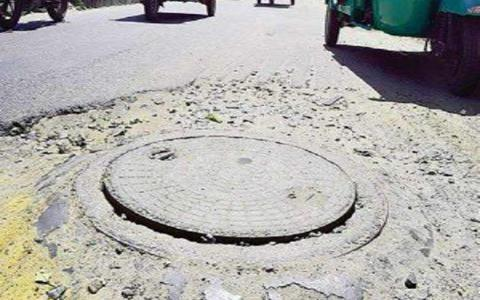proper manhole: (104, 131, 358, 244)
